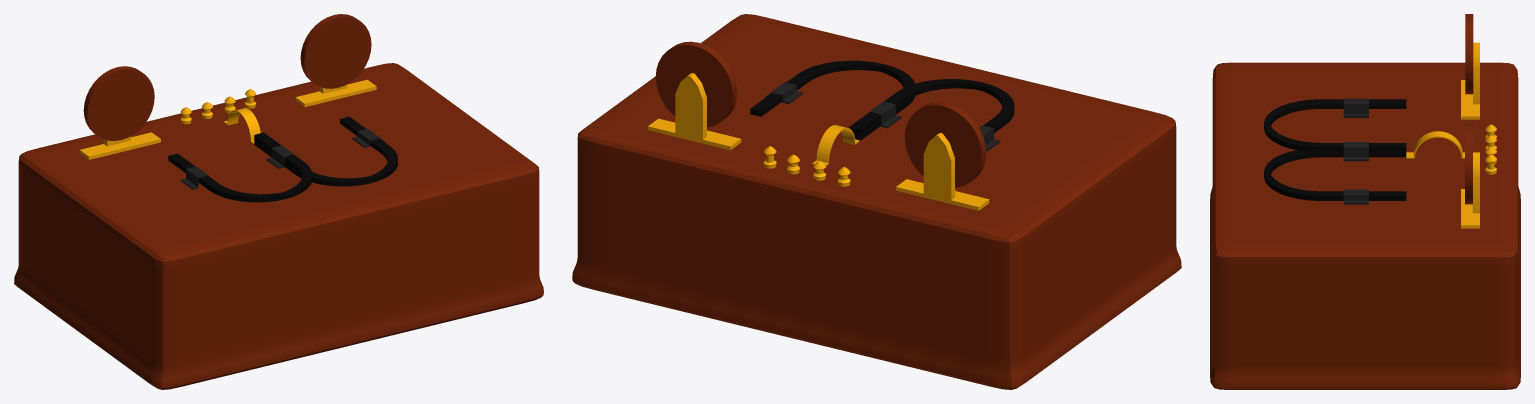
The model's file is detector-magnetico.obj.
The picture shows the model from 3 angles, left to right: view 1: azimuth 30°, elevation 25°; view 2: azimuth 150°, elevation 25°; view 3: azimuth 270°, elevation 25°; orthographic projection. The views are drawn at different scales.
Visible parts, largest first — view 1: Cube_Cube.002, Circle, Circle.001, Circle.003_Circle.004, Cube.004_Cube.003, Circle.002, Circle.004_Circle.005; view 2: Cube_Cube.002, Cube.004_Cube.003, Circle.001, Circle, Circle.003_Circle.004, Circle.002, Circle.004_Circle.005; view 3: Cube_Cube.002, Circle.003_Circle.004, Circle.002, Cube.004_Cube.003, Circle.001, Circle, Cube.002_Cube.001, Cube.003_Cube.006, Circle.004_Circle.005, Cube.001_Cube.004.
Part boxes in pixels (left/top/right/bottom): Cube_Cube.002: left=14, top=63, right=543, bottom=389; Circle: left=300, top=14, right=371, bottom=88; Circle.001: left=83, top=66, right=154, bottom=140; Circle.003_Circle.004: left=168, top=132, right=312, bottom=202; Cube.004_Cube.003: left=79, top=79, right=376, bottom=159; Circle.002: left=254, top=116, right=397, bottom=186; Circle.004_Circle.005: left=224, top=108, right=260, bottom=144; Cube_Cube.002: left=572, top=14, right=1181, bottom=389; Cube.004_Cube.003: left=648, top=73, right=989, bottom=210; Circle.001: left=904, top=102, right=986, bottom=187; Circle: left=655, top=41, right=737, bottom=127; Circle.003_Circle.004: left=849, top=79, right=1014, bottom=134; Circle.002: left=750, top=60, right=915, bottom=140; Circle.004_Circle.005: left=812, top=125, right=859, bottom=165; Cube_Cube.002: left=1210, top=62, right=1520, bottom=389; Circle.003_Circle.004: left=1264, top=99, right=1406, bottom=152; Circle.002: left=1264, top=150, right=1406, bottom=200; Cube.004_Cube.003: left=1461, top=42, right=1479, bottom=228; Circle.001: left=1465, top=14, right=1473, bottom=94; Circle: left=1465, top=124, right=1472, bottom=204; Cube.002_Cube.001: left=1343, top=142, right=1368, bottom=161; Cube.003_Cube.006: left=1343, top=98, right=1368, bottom=117; Circle.004_Circle.005: left=1406, top=131, right=1464, bottom=158; Cube.001_Cube.004: left=1343, top=189, right=1368, bottom=204.
Size of the model in its own units: 6.1 by 3.2 by 4.07.
